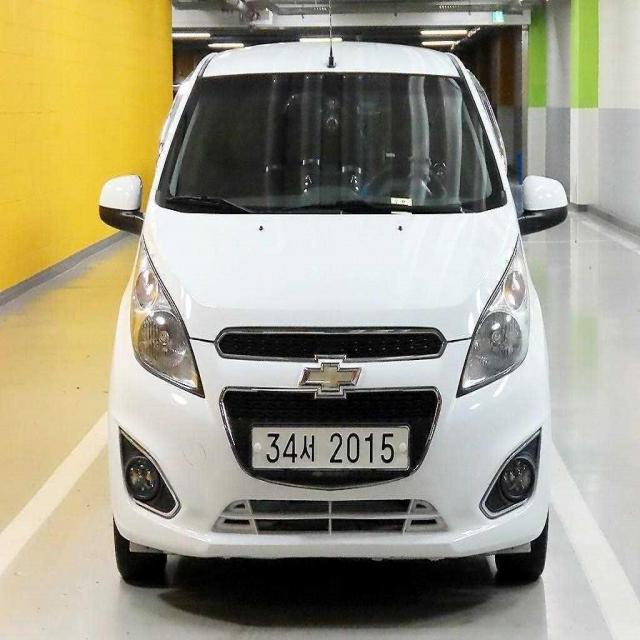car: (90, 31, 584, 608)
illegal_plate: (249, 420, 411, 480)
